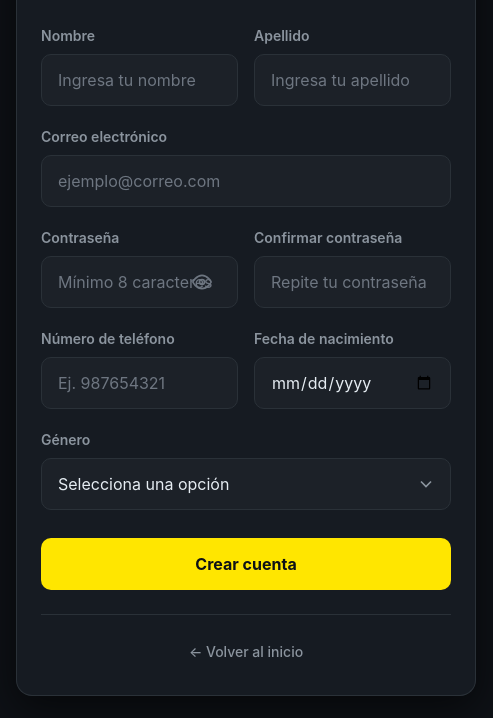
Test case: Register › Submit validation › shows global error when required fields are empty on submit
(page scrolled)
Click the button "Crear cuenta".
click(246, 564)  # box [41, 538, 451, 590]
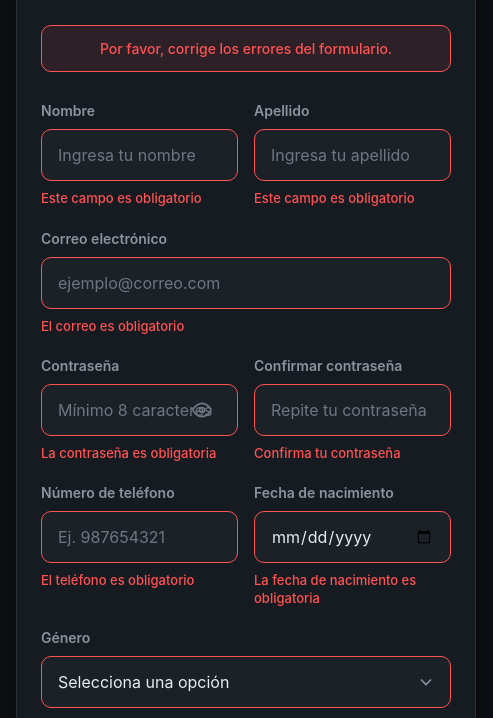
Expected: the text "Por favor, corrige los errores del formulario." is shown, [41, 25, 451, 72]
